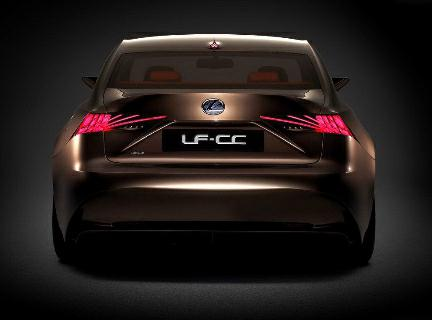雷克萨斯-LF-CC: (47, 24, 382, 271)
